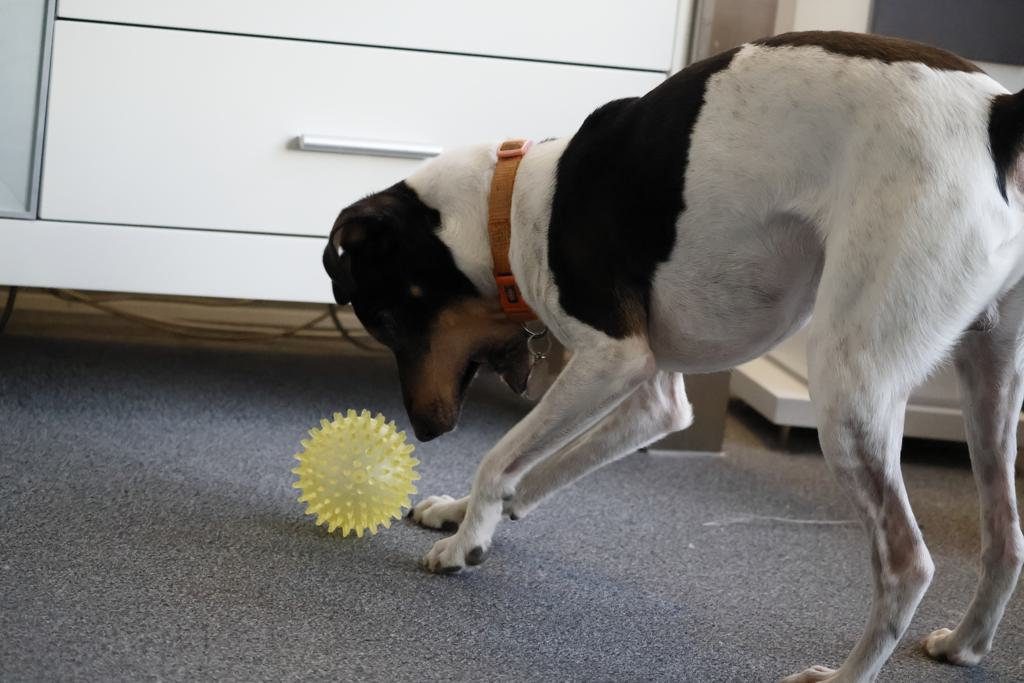Dog: (314, 22, 1024, 683)
